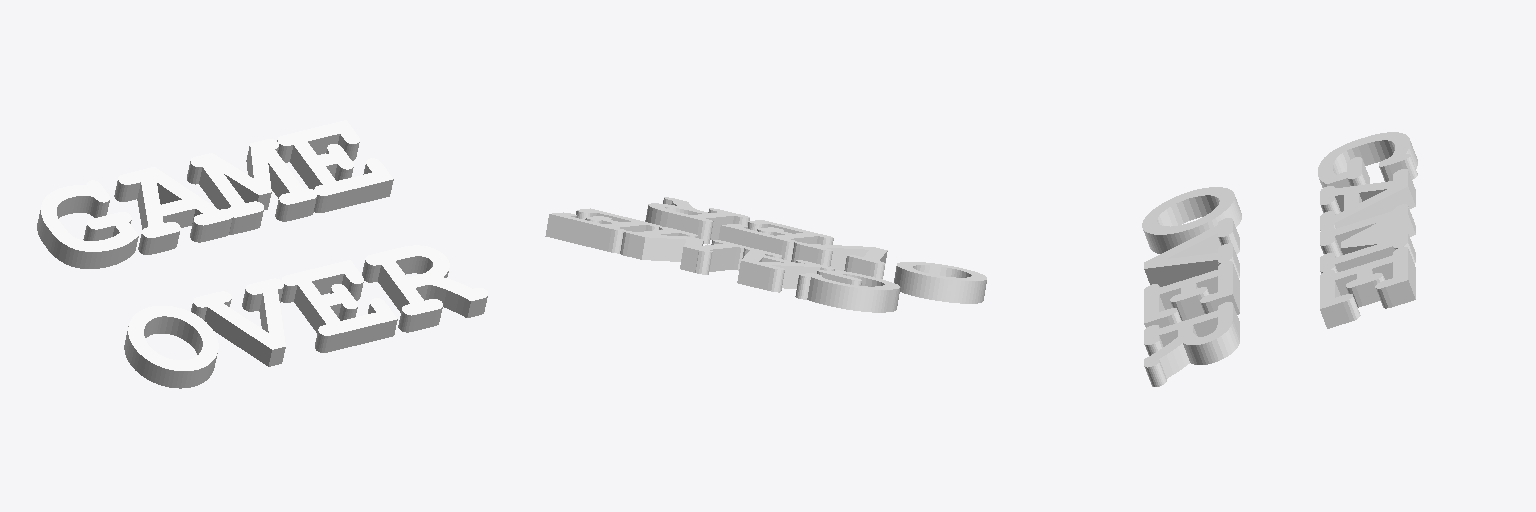
File: gameover.obj
The picture shows the model from 3 angles: view 1: azimuth 30°, elevation 25°; view 2: azimuth 150°, elevation 25°; view 3: azimuth 270°, elevation 25°; orthographic projection.
Visible parts, largest first — view 1: typeMesh1; view 2: typeMesh1; view 3: typeMesh1.
Part boxes in pixels (left/top/right/bottom): typeMesh1: left=37, top=120, right=487, bottom=388; typeMesh1: left=545, top=197, right=986, bottom=312; typeMesh1: left=1142, top=132, right=1417, bottom=386.
Size of the model in its own units: 9.01 by 2.68 by 6.44.